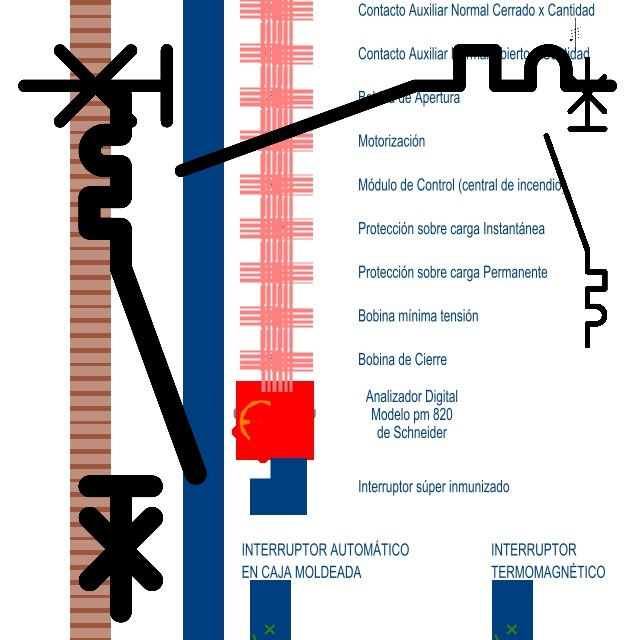interruptor_termomagnetico: (9, 35, 626, 186), (76, 82, 209, 625), (539, 52, 612, 353)
